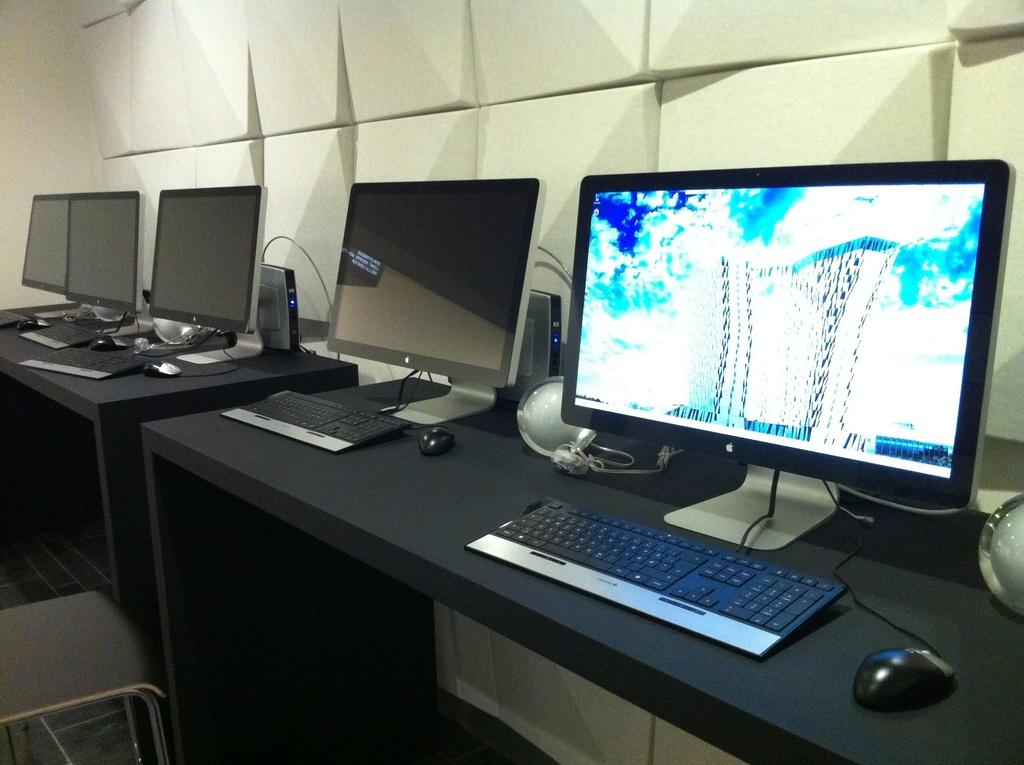Computer-keyboard: (463, 472, 848, 659), (220, 369, 417, 455), (14, 329, 213, 380), (19, 309, 124, 350), (0, 304, 76, 324)
Computer-monitor: (563, 157, 1015, 513), (325, 174, 544, 385), (150, 182, 262, 325), (64, 194, 134, 310), (18, 194, 68, 295)
